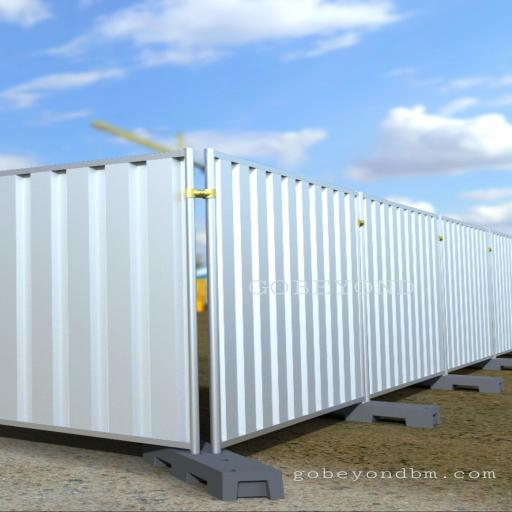chair: (0, 141, 512, 508)
